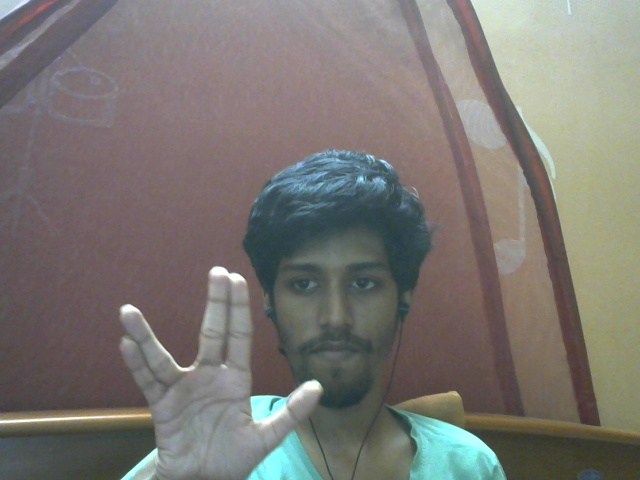LiveLong: (117, 263, 322, 480)
